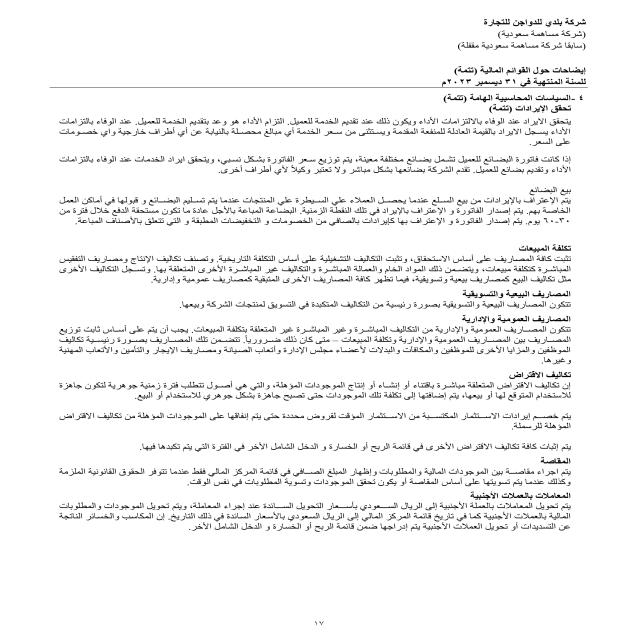notes: (446, 66, 591, 80)
text: (53, 93, 592, 548)
